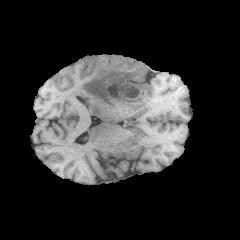glioma: (77, 60, 148, 106)
